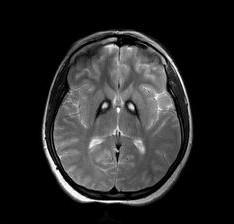Normal_Brain: (3, 1, 234, 224)
